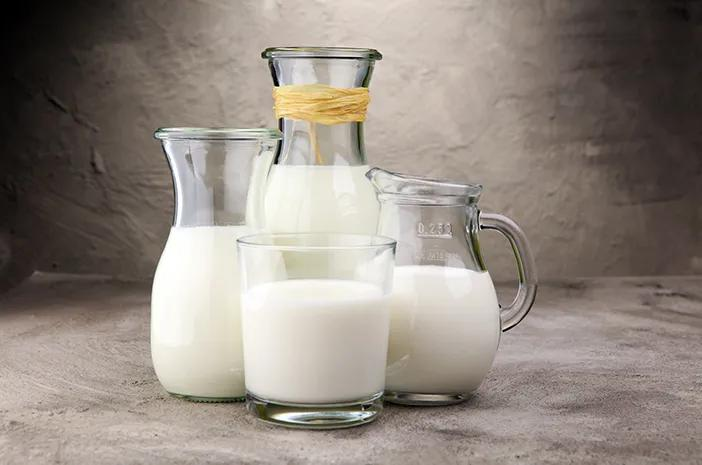produk_susu: (253, 250, 379, 410), (405, 243, 475, 385), (184, 217, 233, 384), (282, 131, 360, 226)
